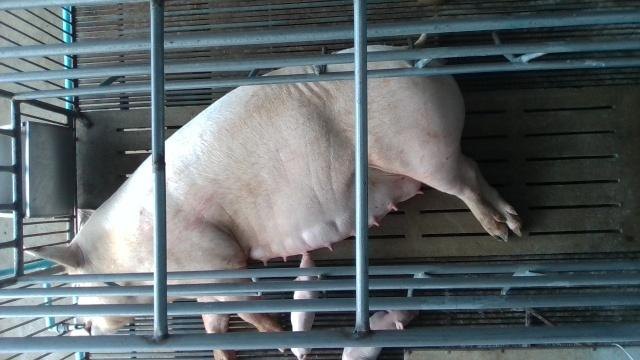piglet: (342, 309, 421, 358), (289, 252, 324, 360)
sow-sleep-lactate: (25, 45, 522, 360)
